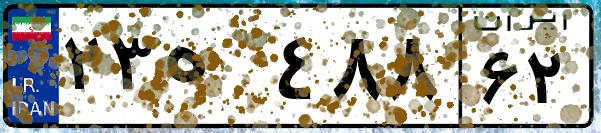2: (57, 26, 110, 100), (525, 38, 570, 115)
3: (110, 28, 158, 98)
4: (270, 28, 330, 110)
6: (475, 38, 525, 113)
8: (385, 28, 445, 110), (330, 28, 385, 110)
ه: (158, 20, 270, 120)
